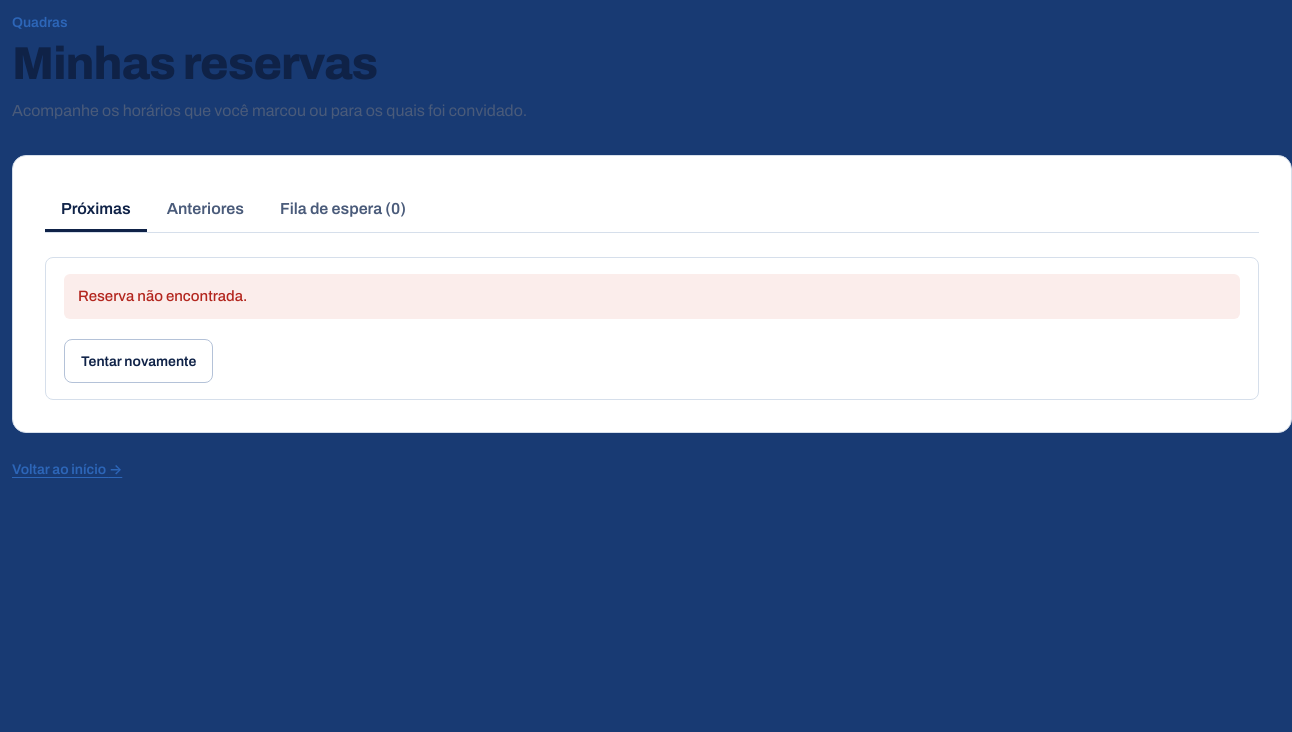
it: BookingsPage › falha de carga com ApiError mostra a mensagem e permite tentar de novo
Expected: the message reads "Reserva não encontrada.", x1=78 y1=288 x2=247 y2=304
Click the button "Tentar novamente".
click(139, 361)  # box x1=64 y1=339 x2=213 y2=383
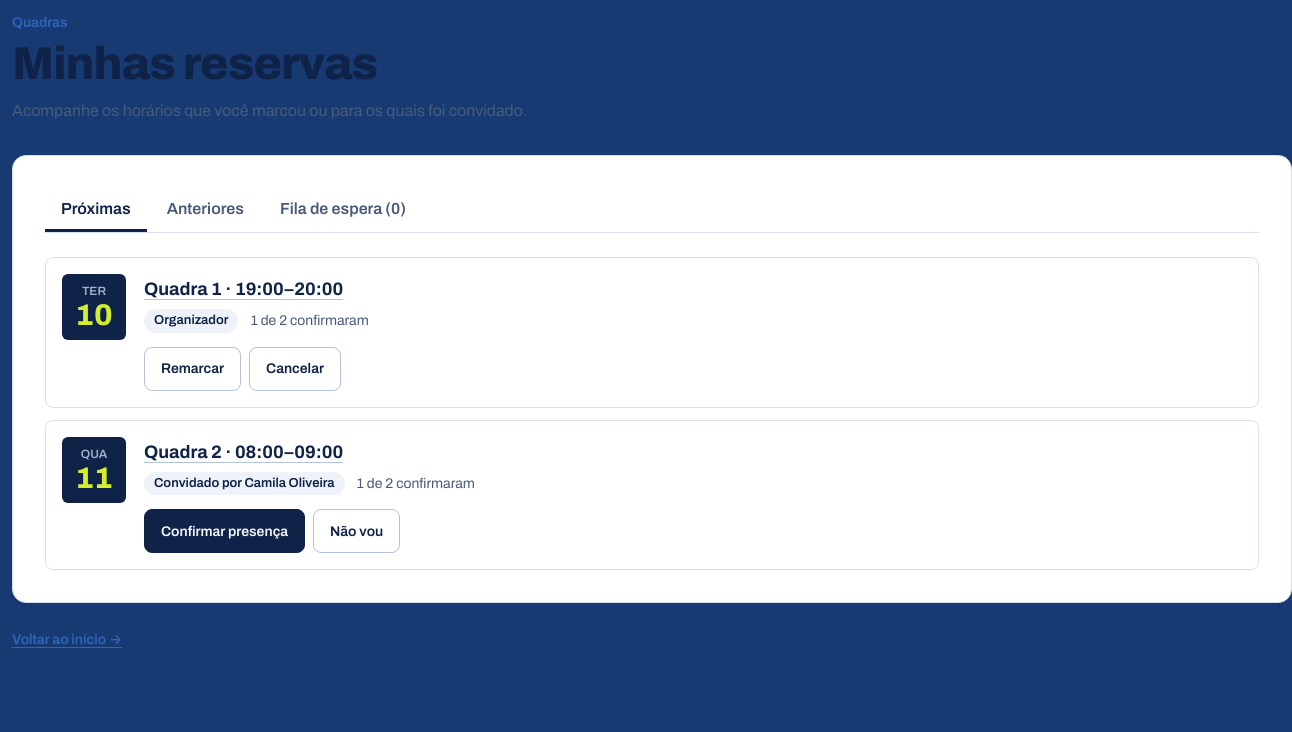
Now the link "Quadra 1 · 19:00–20:00" is shown, box x1=144 y1=279 x2=343 y2=299
